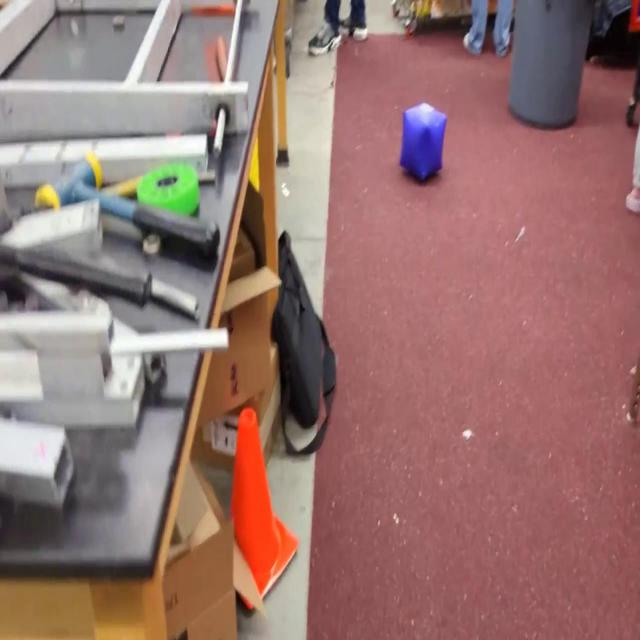frc_cube: (398, 102, 450, 182)
